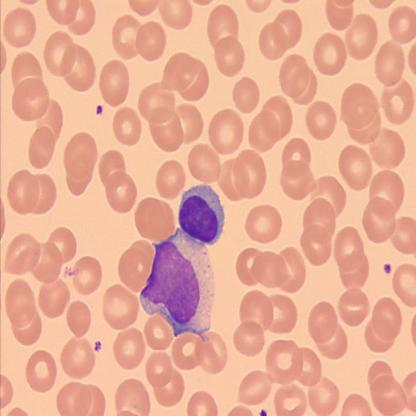Atypical lymphocyte: (138, 181, 225, 334)
